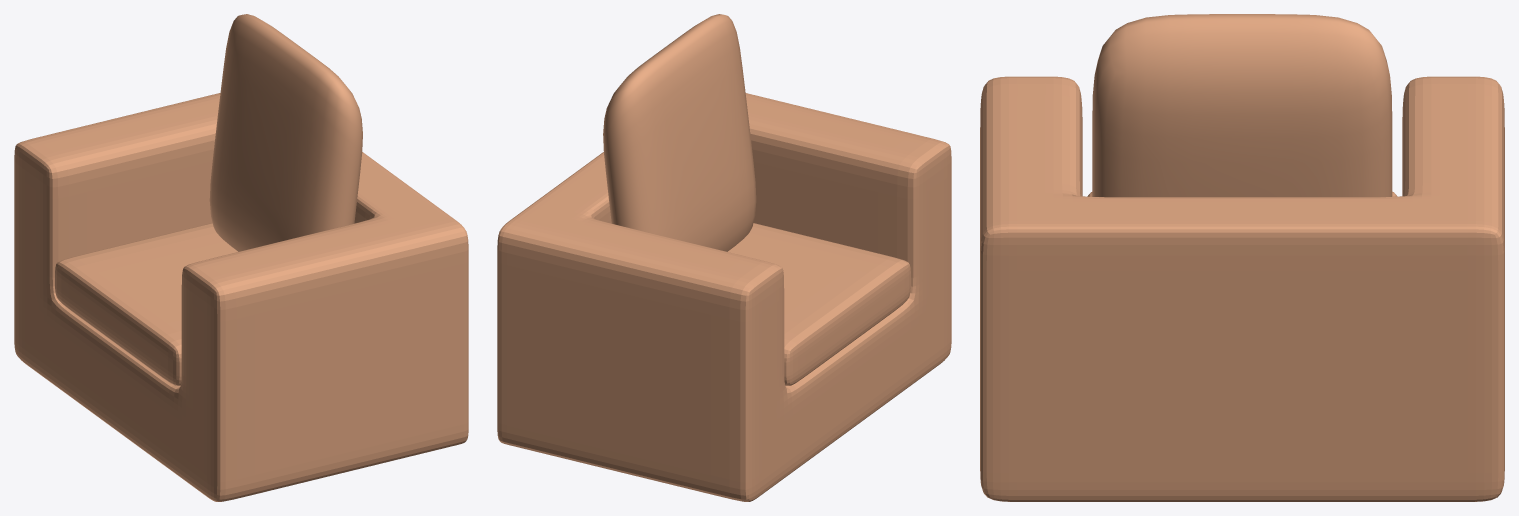
The model's file is Sillon.fbx.
3 renders of one model, left to right at view 1: azimuth 30°, elevation 25°; view 2: azimuth 150°, elevation 25°; view 3: azimuth 270°, elevation 25°, orthographic. The views are drawn at different scales.
Visible parts, largest first — view 1: Sillon, Respaldo.002; view 2: Sillon, Respaldo.002; view 3: Sillon, Respaldo.002.
Boxes of the visible parts, left/top/right/bottom form: Sillon: left=14, top=93, right=468, bottom=501; Respaldo.002: left=209, top=14, right=362, bottom=251; Sillon: left=497, top=93, right=951, bottom=501; Respaldo.002: left=603, top=14, right=756, bottom=251; Sillon: left=980, top=76, right=1504, bottom=501; Respaldo.002: left=1092, top=14, right=1392, bottom=197.
Bounding box in the file's own units: 8.41 × 11.07 × 11.96.
